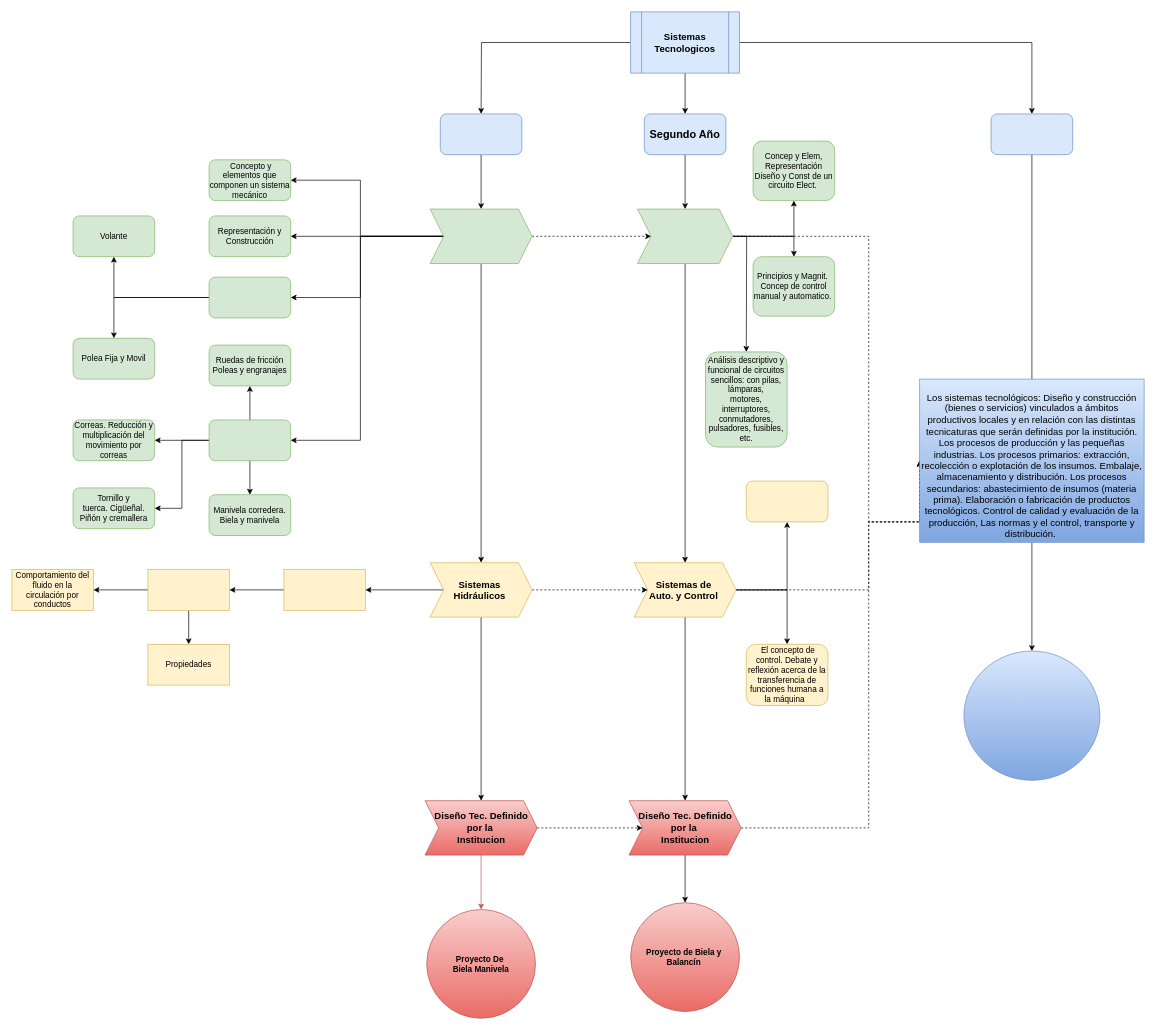
Image size: 1156x1030. Some labels were removed from this diagram. Here are the shapes that lost their labels. From the top down, the box of each, then its label:
(440, 113, 522, 155): Primer Año
(990, 113, 1073, 155): Tercer Año
(429, 208, 532, 264): Operadores Mecánicos y Mecanismos
(637, 208, 733, 264): Sistemas Eléctricos
(208, 276, 291, 318): Mecánica Simple
(208, 419, 291, 461): Mecanismos para la transmisión de movimientos
(746, 480, 828, 522): Concepto y elementos. . Diseño y construcción
(147, 569, 230, 610): Características de los fluidos
(283, 569, 366, 610): Concepto y elementos que componen un sistema hidráulico
(963, 650, 1100, 780): Proyecto Integrador donde se contemplen la implementación de las 3 áreas.
